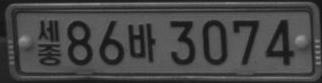0: (201, 18, 228, 65)
3: (169, 20, 196, 66)
4: (265, 18, 295, 65)
6: (98, 20, 125, 66)
7: (232, 19, 260, 65)
8: (66, 19, 94, 66)
바: (127, 22, 156, 62)
세종_V: (37, 19, 61, 66)
